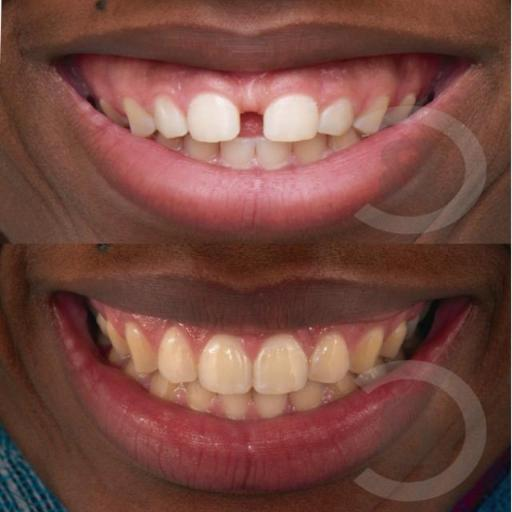spaced: (238, 104, 266, 140)
